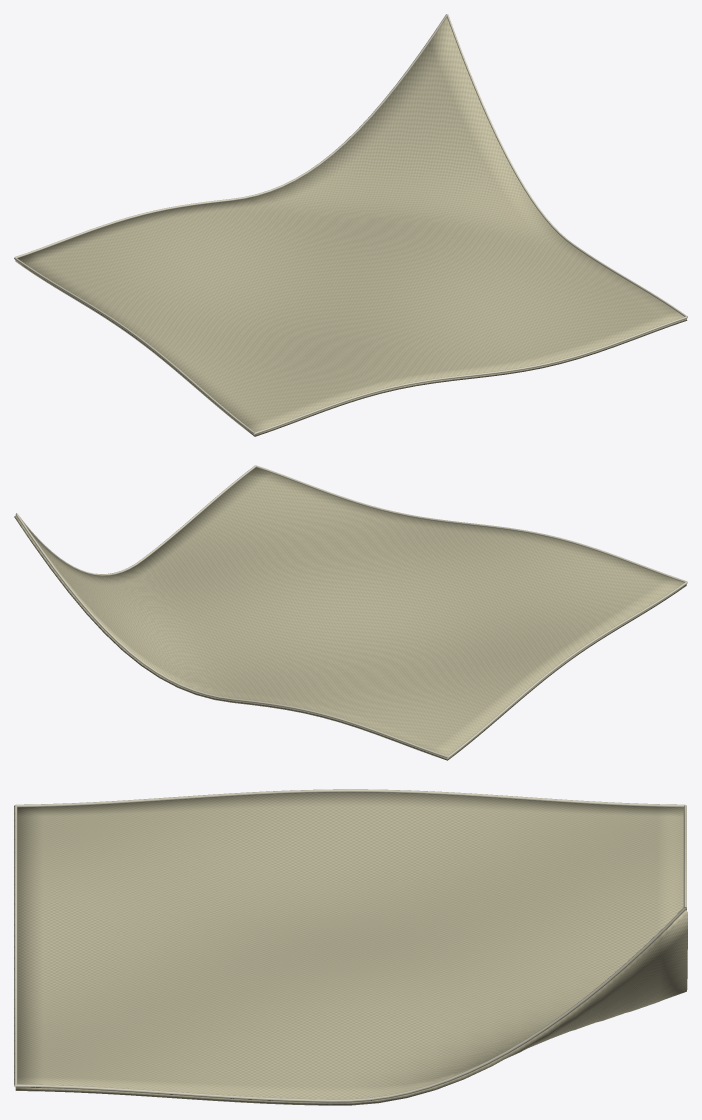
File: sibal-cloth.glb
3 renders of one model, top to bottom at view 1: azimuth 30°, elevation 25°; view 2: azimuth 150°, elevation 25°; view 3: azimuth 270°, elevation 25°, orthographic. The views are drawn at different scales.
Parts seen in each view (by area): view 1: sibal-cloth; view 2: sibal-cloth; view 3: sibal-cloth.
Boxes of the visible parts, left/top/right/bottom form: sibal-cloth: left=14, top=14, right=687, bottom=436; sibal-cloth: left=14, top=465, right=687, bottom=760; sibal-cloth: left=14, top=789, right=687, bottom=1105.
Bounding box in the file's own units: 0.2516 × 0.0795 × 0.2415.
Materials: 2 (1 with a texture image).
